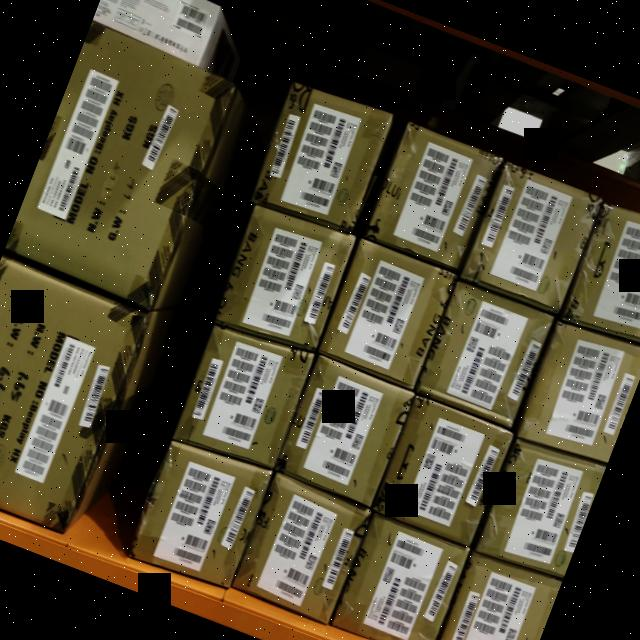box: (248, 83, 392, 235), (171, 326, 312, 472), (464, 163, 602, 311), (277, 358, 413, 508), (130, 442, 270, 587), (216, 205, 354, 350), (367, 123, 502, 270), (320, 244, 454, 389), (236, 477, 370, 621), (419, 282, 553, 422), (378, 402, 510, 542), (334, 515, 469, 640)
